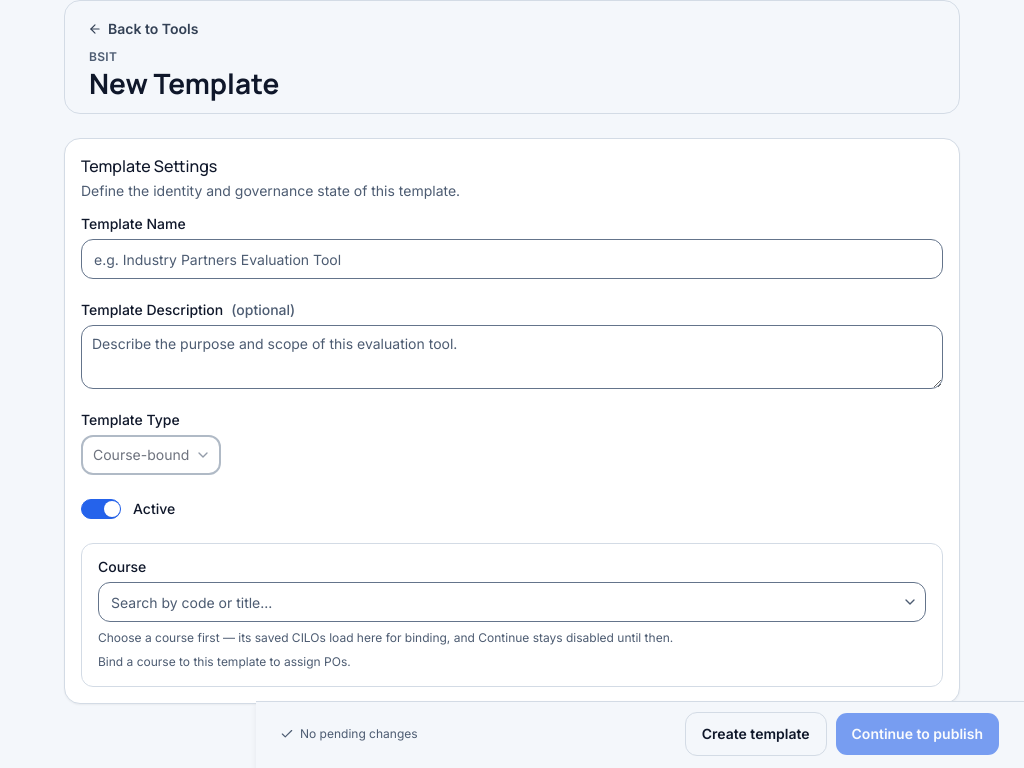
TemplateBuilder › gates a new faculty draft on course selection before questions
Expected: the element "Choose a course first" is shown, [81,543,943,687]
Expected: the button "Continue to publish" is disabled, [834,712,1000,756]
Type "IT401" into the dropdown labelled "Course".
click(498, 602); type("IT401")  # box [99,582,898,622]
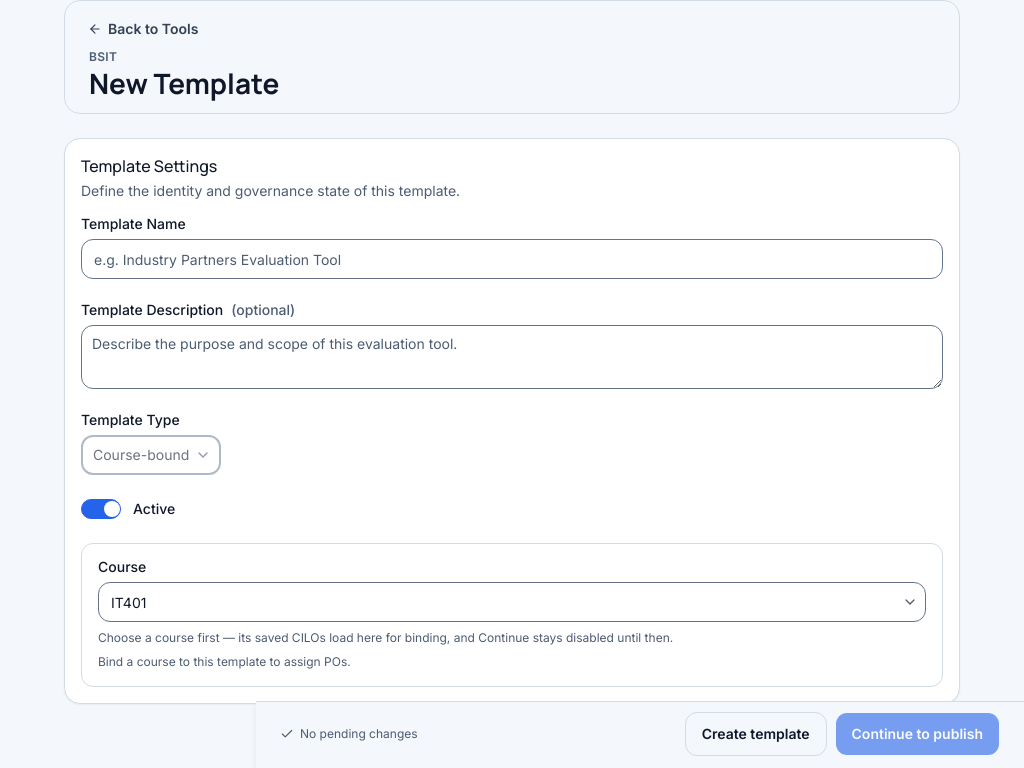
Press ArrowDown in the dropdown labelled "Course", box [99,582,898,622]
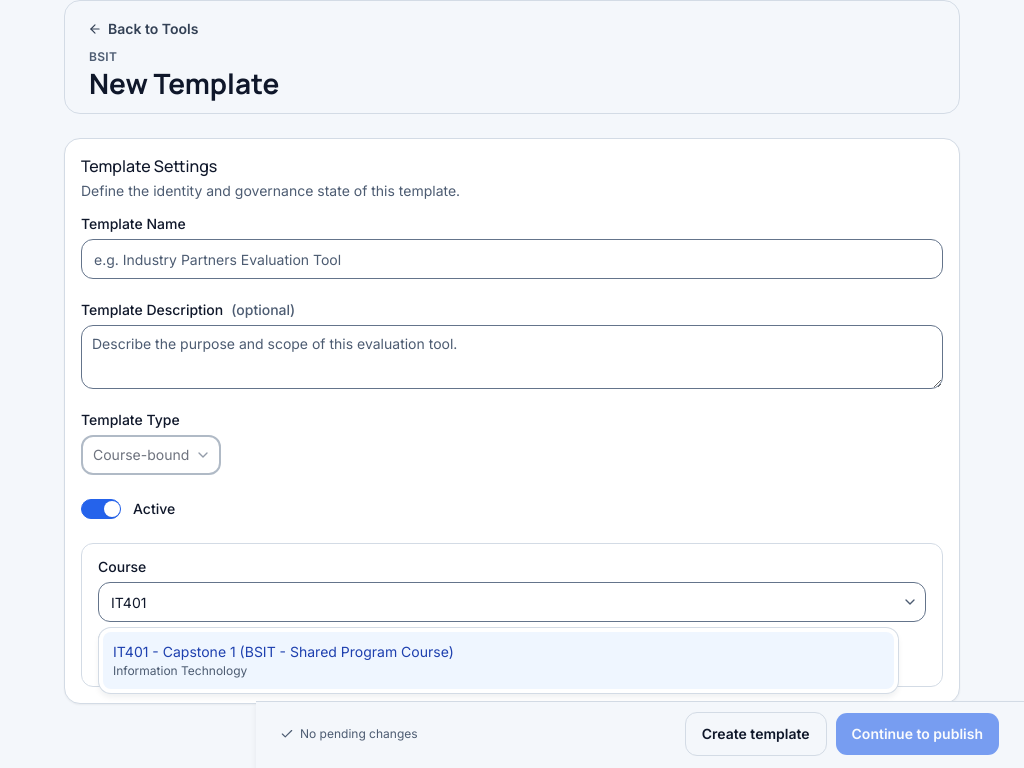
Click the option "IT401".
click(283, 652)  # box [103,632,894,689]
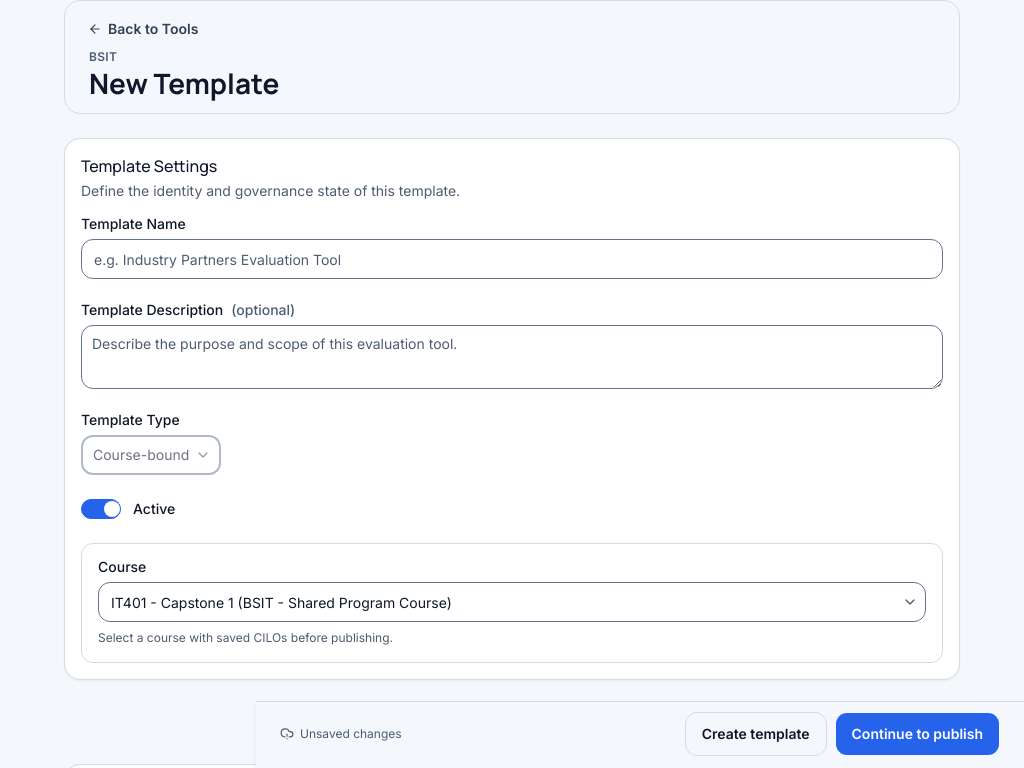
Now the button "Continue to publish" is enabled, box [834,712,1000,756]
